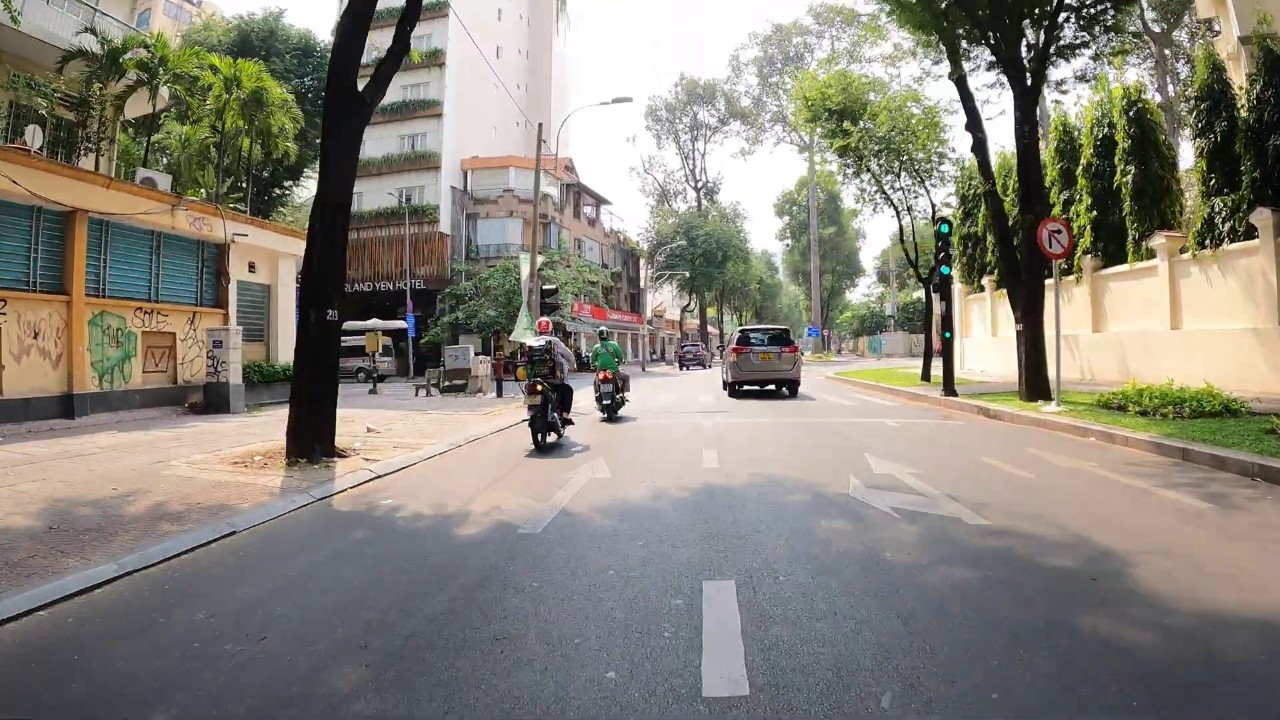cam_re_phai: (1036, 216, 1073, 261)
